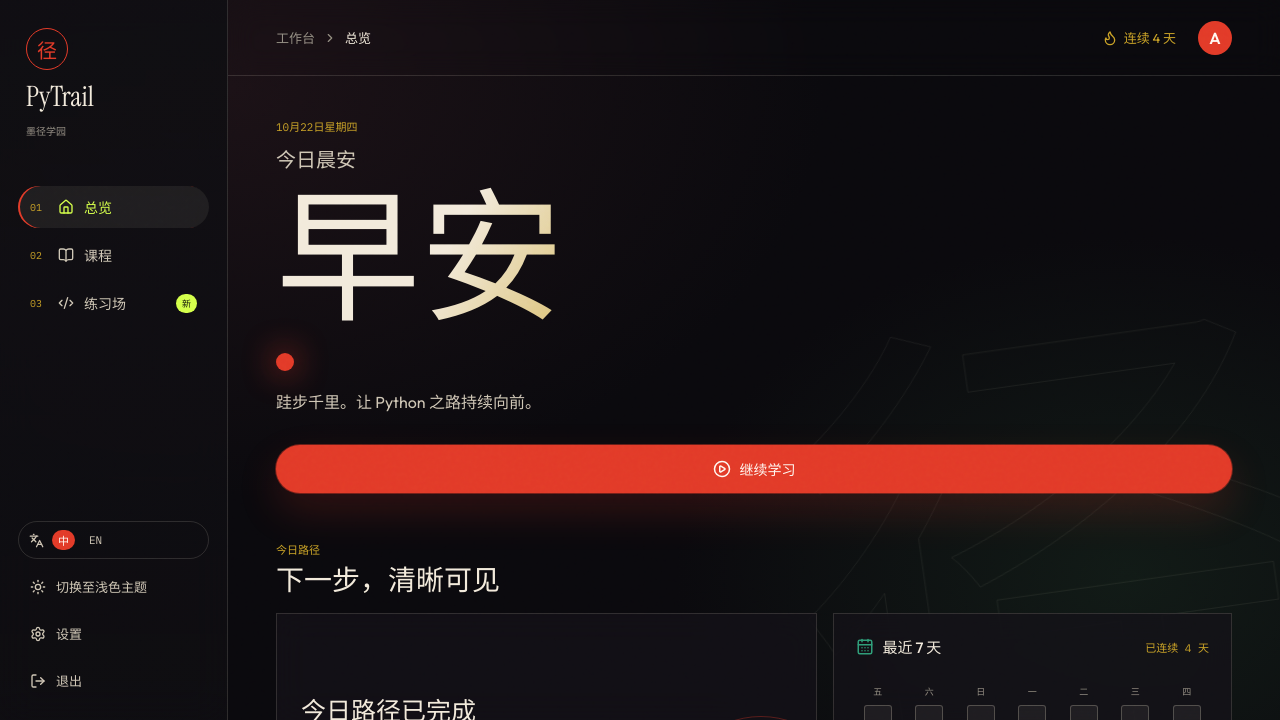
Scenario: on-demand course and lesson workflow › clears the dashboard when signing out
Check: the text "连续 4 天" is shown, box [1102,28,1176,47]
Click the button "退出" at (114, 680), box [18,661,209,700]
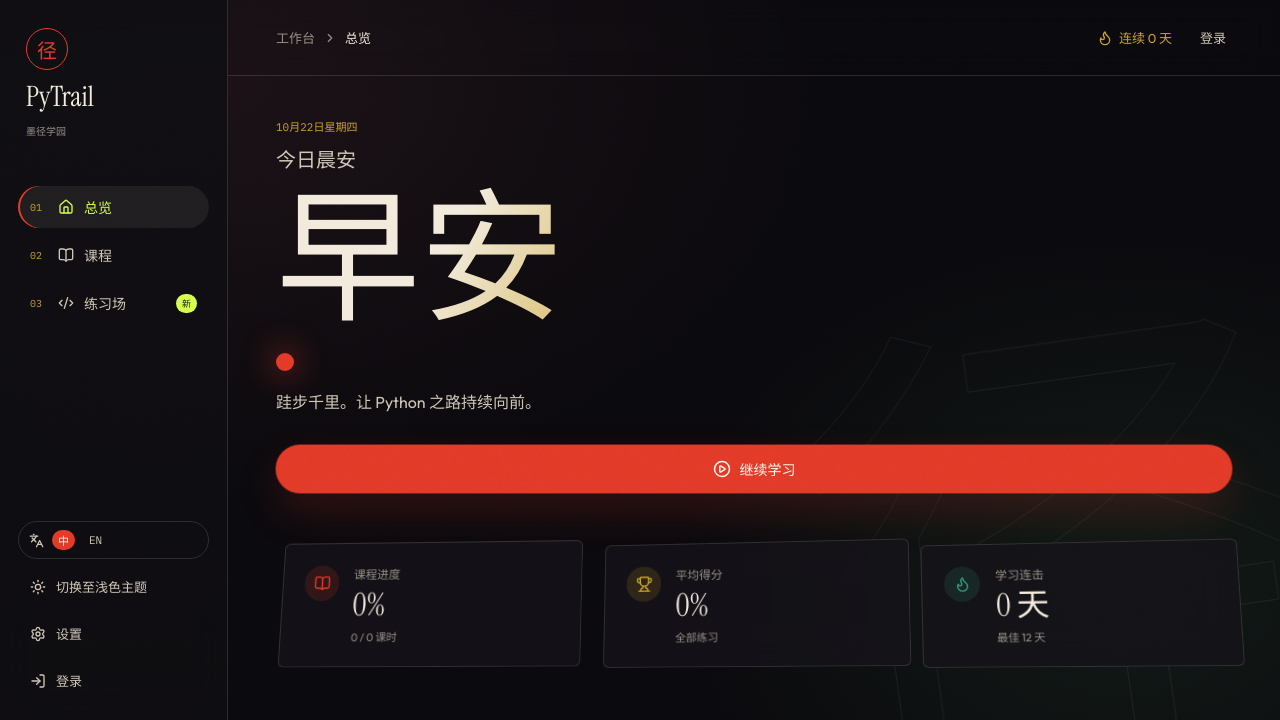
Check: the text "连续 0 天" is shown, box [1097,28,1172,47]
Check: the button with test id "nav-signin" is shown, box [18,661,209,700]
